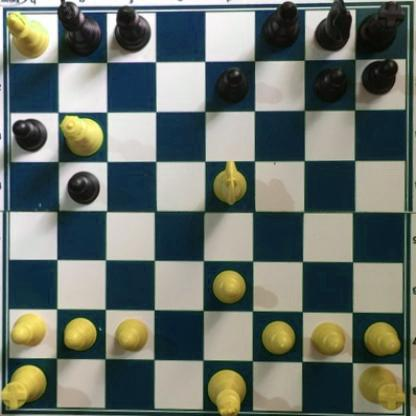black-bishop: (112, 4, 152, 54), (262, 1, 302, 49)
black-king: (56, 1, 103, 57)
black-knight: (314, 1, 355, 53)
black-pawn: (360, 57, 399, 95), (312, 65, 348, 106), (214, 66, 248, 106), (10, 118, 48, 153), (66, 170, 102, 206)
black-rook: (354, 1, 405, 54)
white-bishop: (7, 11, 51, 59)
white-king: (205, 369, 247, 416)
white-knight: (212, 158, 247, 208)
white-pawn: (359, 320, 401, 358), (308, 319, 348, 358), (259, 319, 297, 358), (61, 316, 100, 353), (10, 309, 47, 347), (212, 267, 247, 307), (114, 316, 152, 352)
white-queen: (57, 111, 105, 154)
white-rook: (354, 361, 406, 412), (1, 361, 49, 412)
